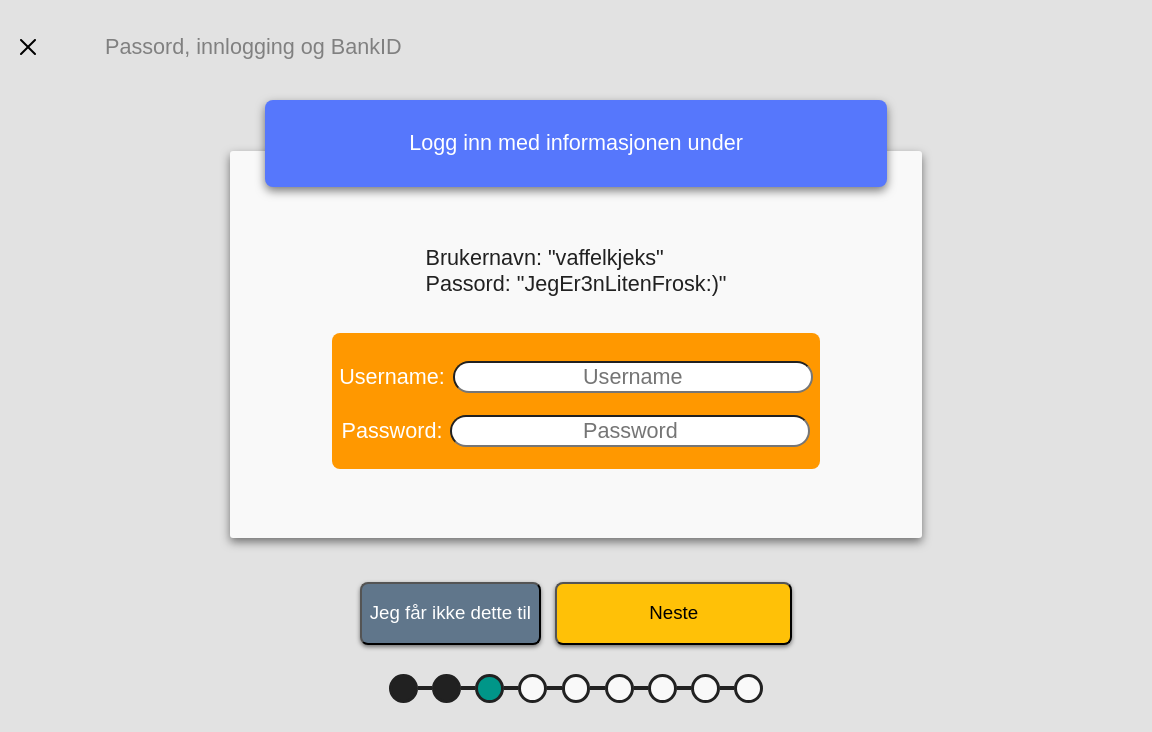
Test: Passwords-and-login › login button gives feedback to user
Type "JegEr3nLitenFrosk:)" into the field with id "username".
click(633, 377); type("JegEr3nLitenFrosk:)")  # box [453,361,813,393]
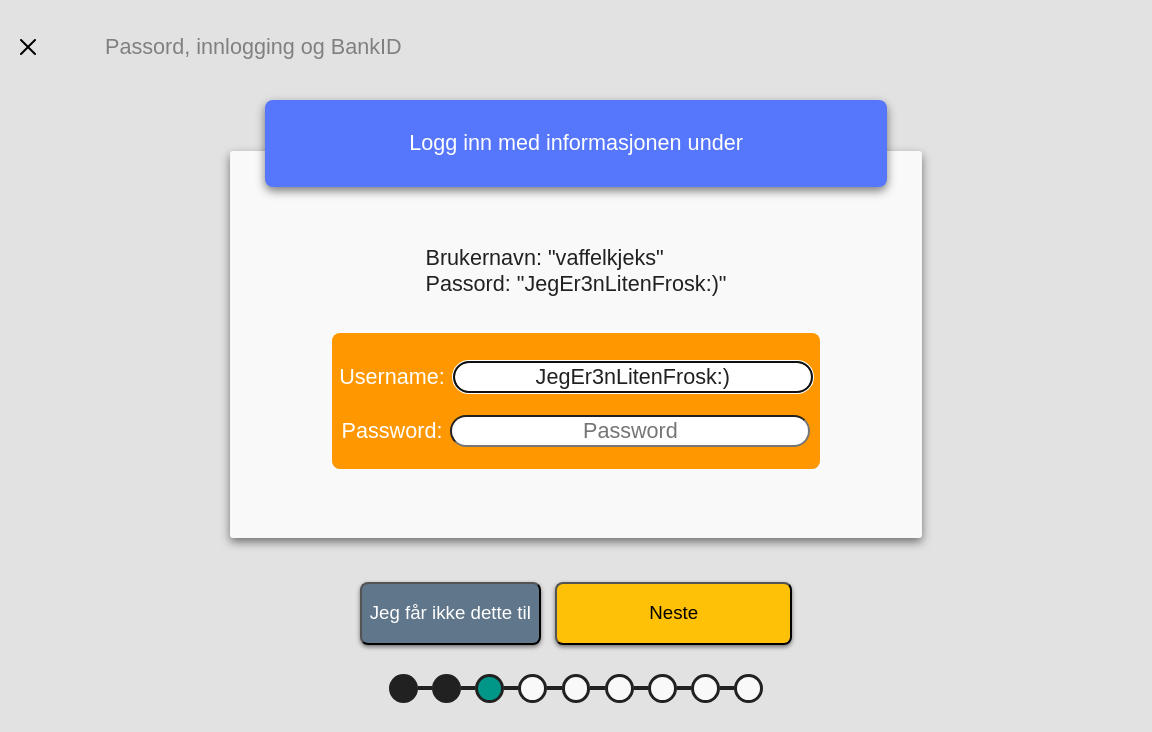
Type "vaffelkjeks" into the password field with placeholder "Password".
click(630, 431); type("vaffelkjeks")  # box [450,415,810,447]
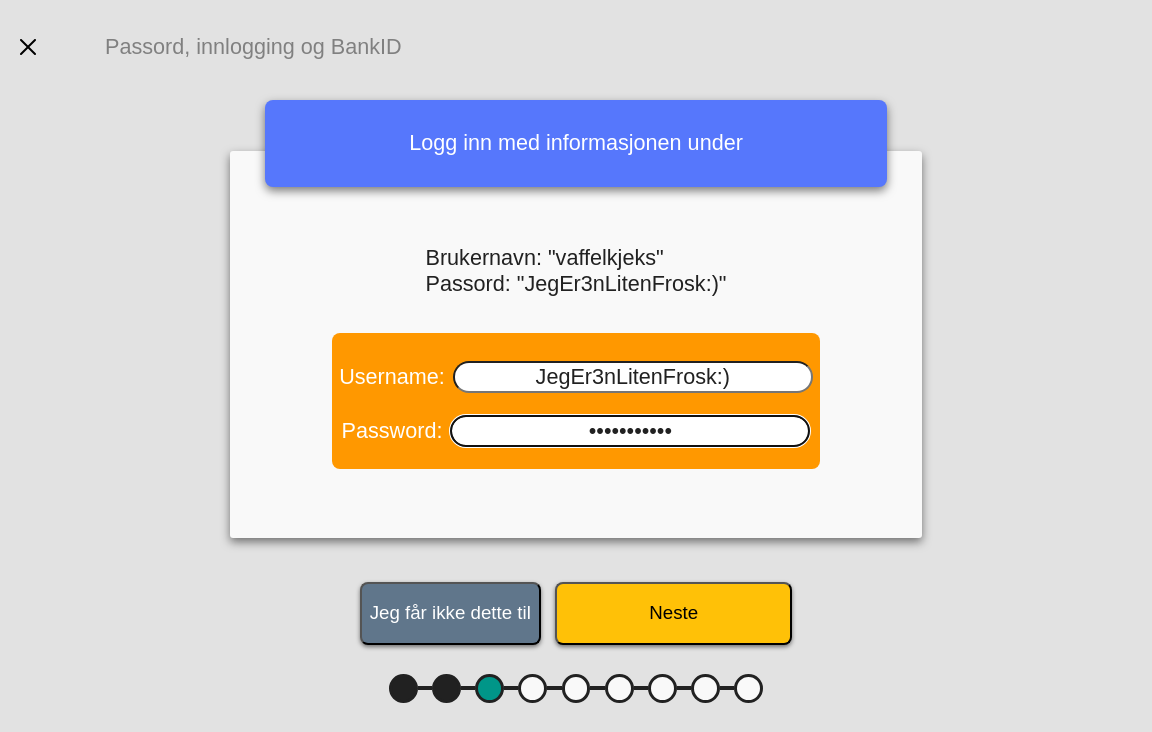
Click the button with class "next-button".
click(674, 614)  # box [555,582,792,645]
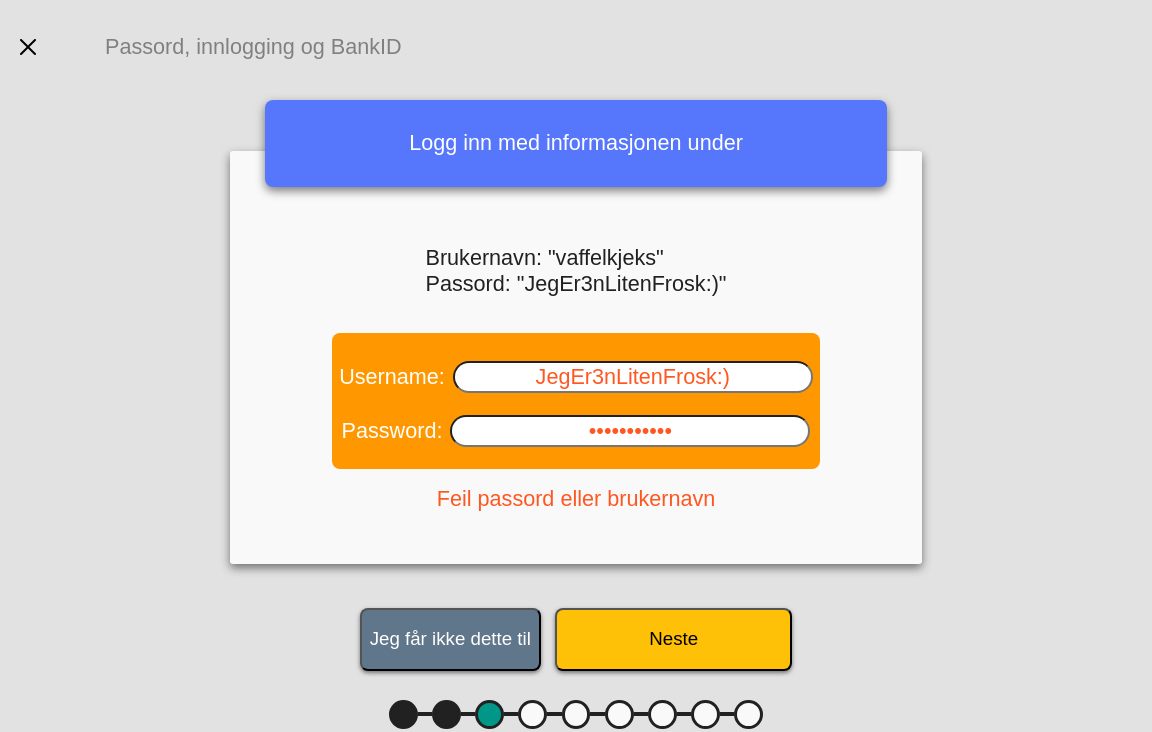
Expected: the heading with class "feedback" reads "Feil passord eller brukernavn", [437,486,715,511]
Replace the text in the field with id "username" with "vaffelkjeks" at (633,377), box [453,361,813,393]
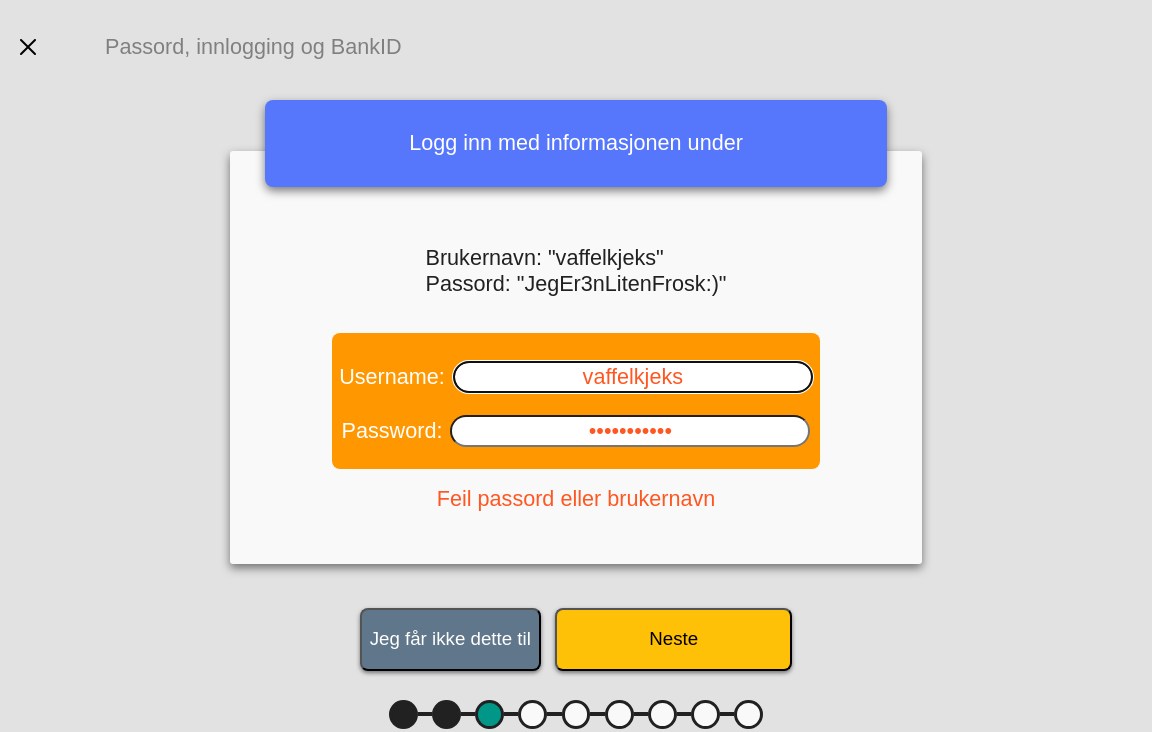
Type "JegEr3nLitenFrosk:)" into the password field.
click(630, 431); type("JegEr3nLitenFrosk:)")  # box [450,415,810,447]
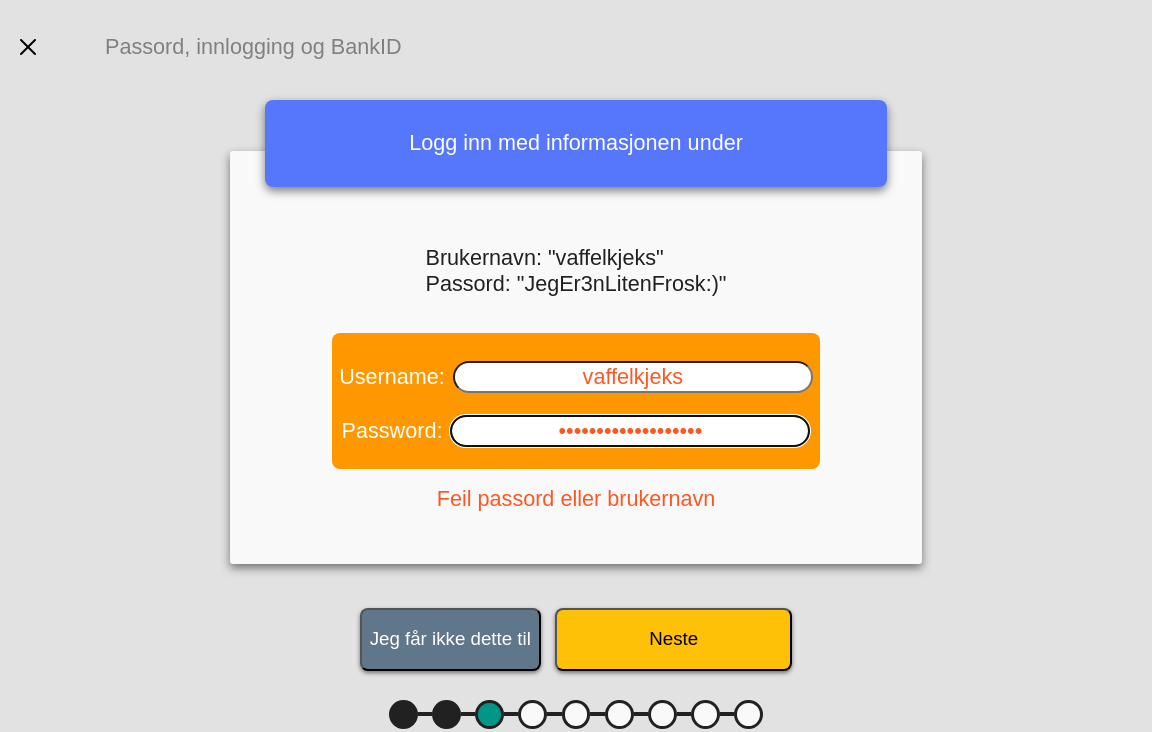
Click the button with class "next-button".
click(674, 640)  # box [555,608,792,671]
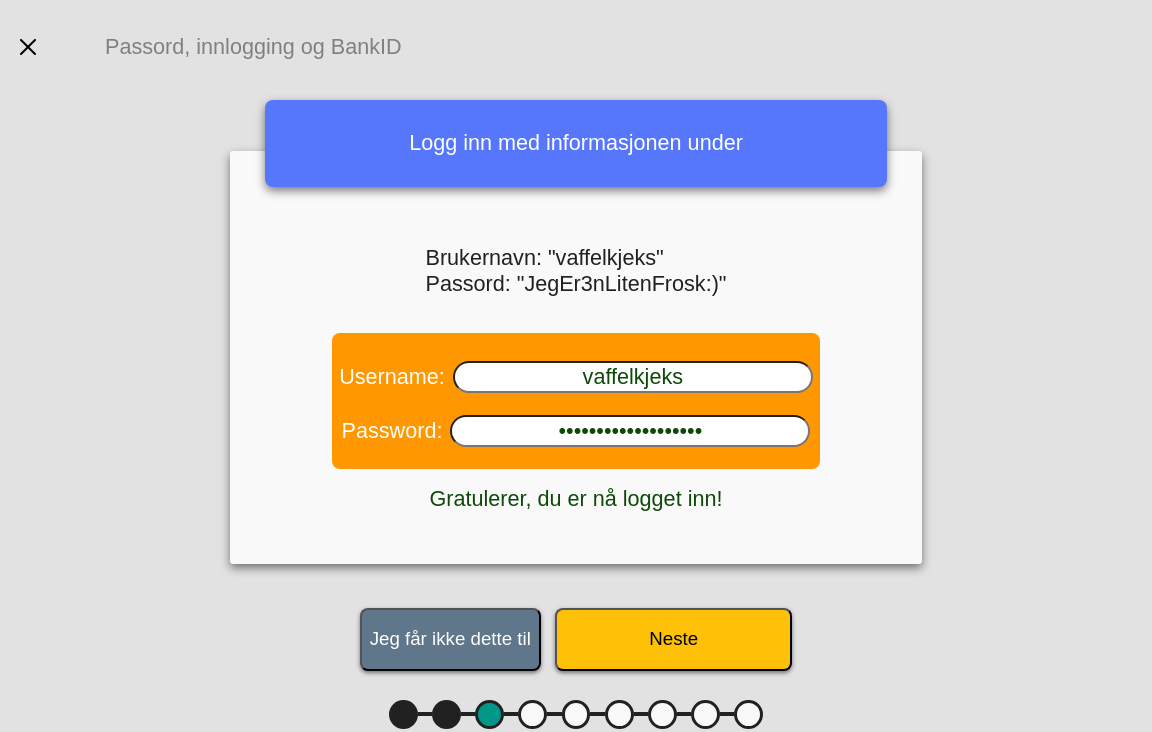
Expected: the heading with class "feedback" reads "Gratulerer, du er nå logget inn!", [430,486,723,511]
